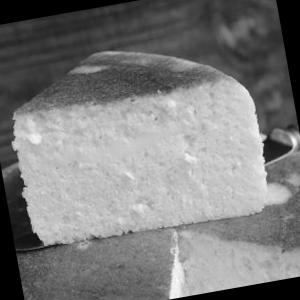omelet: (12, 18, 273, 276)
